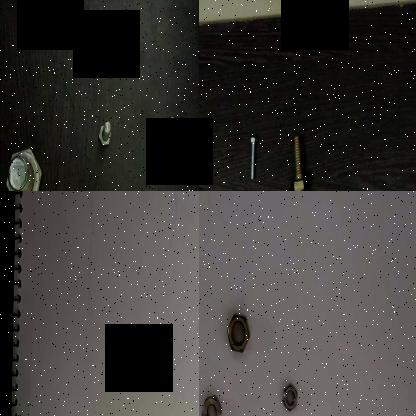Bolts: (156, 100, 196, 153), (3, 142, 46, 191), (288, 129, 310, 191), (90, 108, 114, 154), (246, 130, 260, 184)
NUTS: (224, 309, 250, 356), (200, 391, 225, 416), (281, 381, 299, 413)
